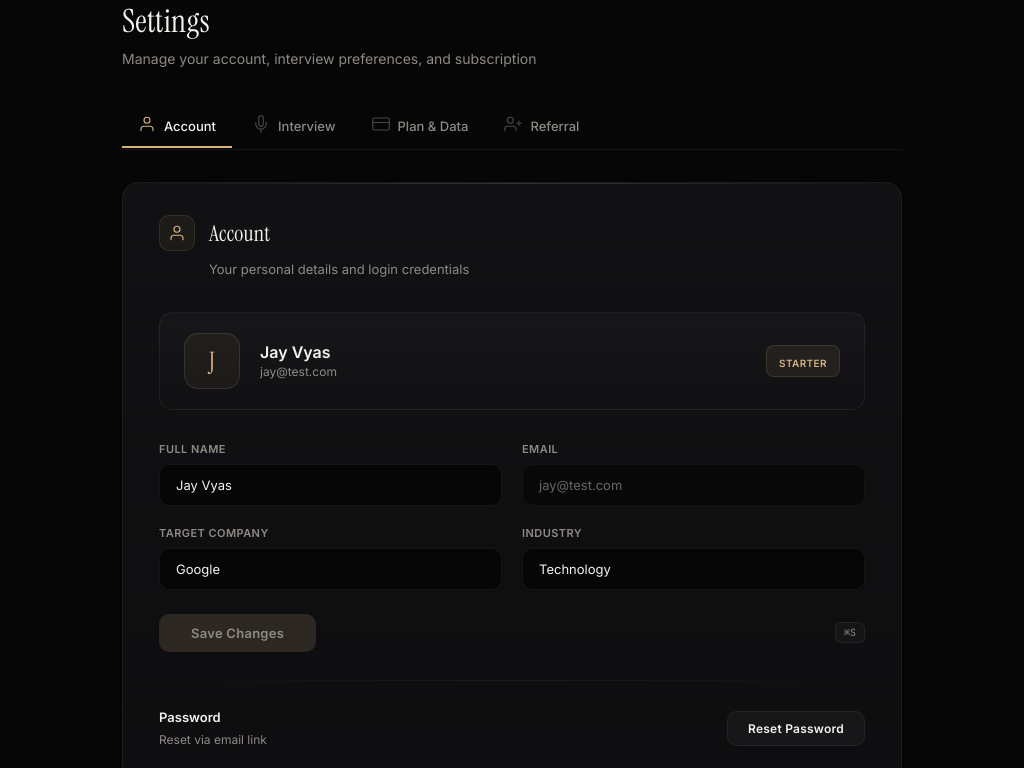
Test: Flow 5: Settings › shows delete account button
Step 1. Click the tab "Plan & Data" → [420, 126], box [356, 105, 484, 148]
(page scrolled)
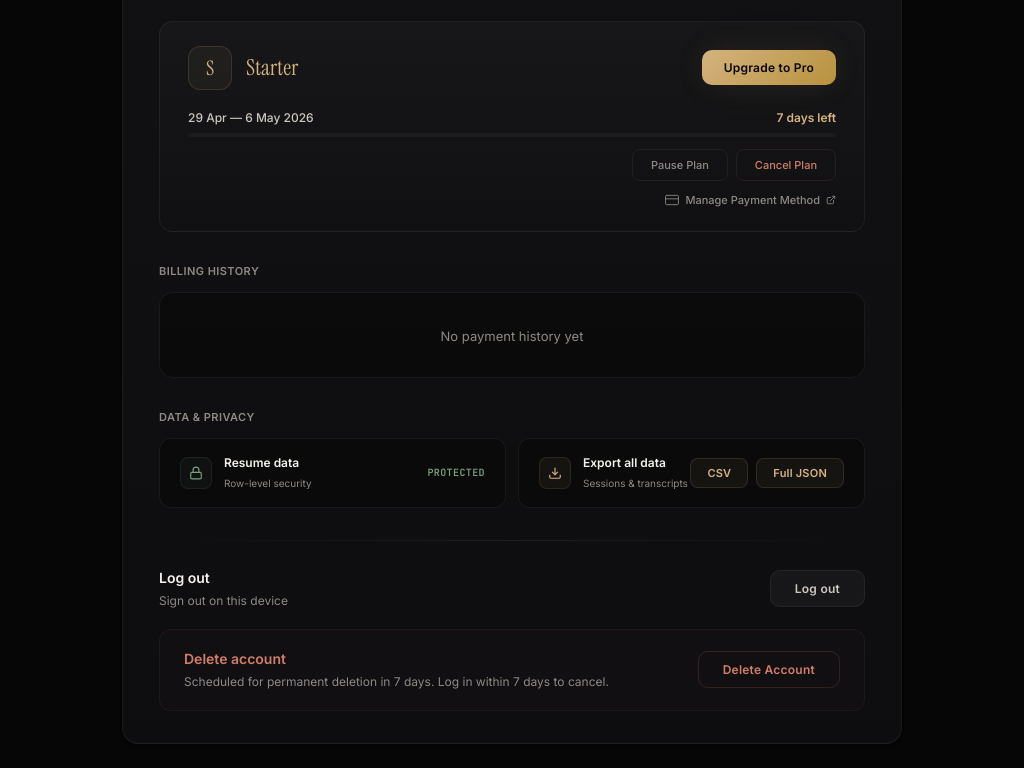
Check: the button "Delete Account" is shown, box [698, 651, 840, 688]
